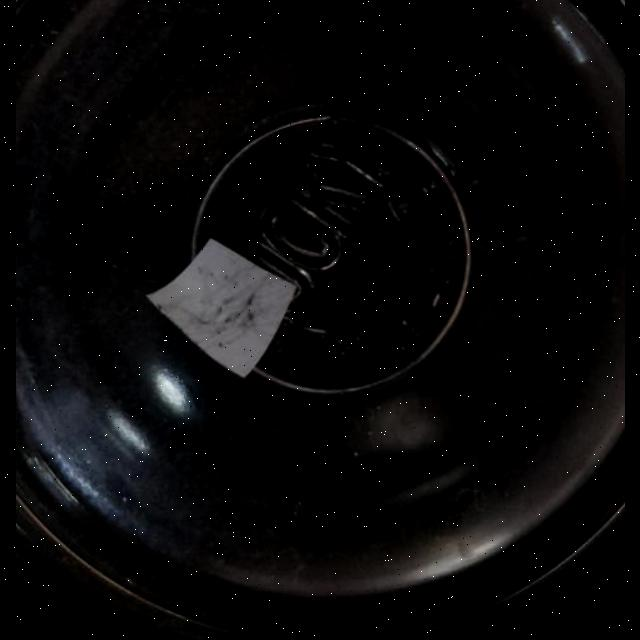Fragment: (148, 239, 298, 379)
